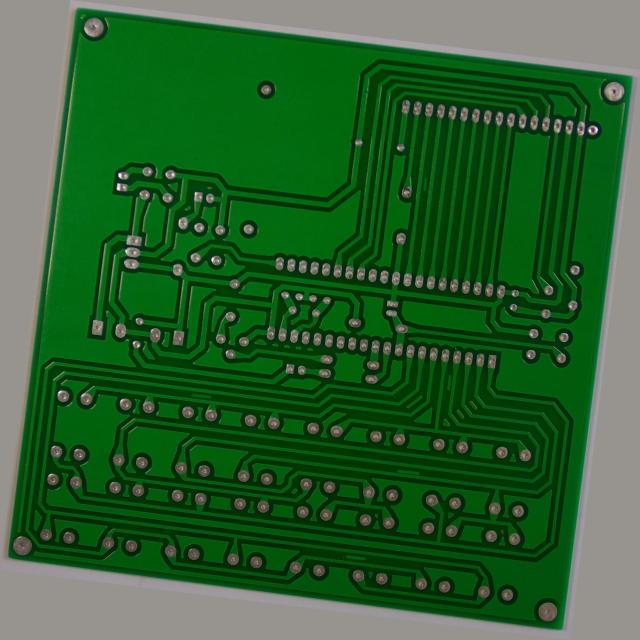spurious_copper: (421, 469, 453, 483), (376, 572, 407, 585), (184, 414, 213, 426), (465, 358, 476, 385), (412, 145, 425, 166)
